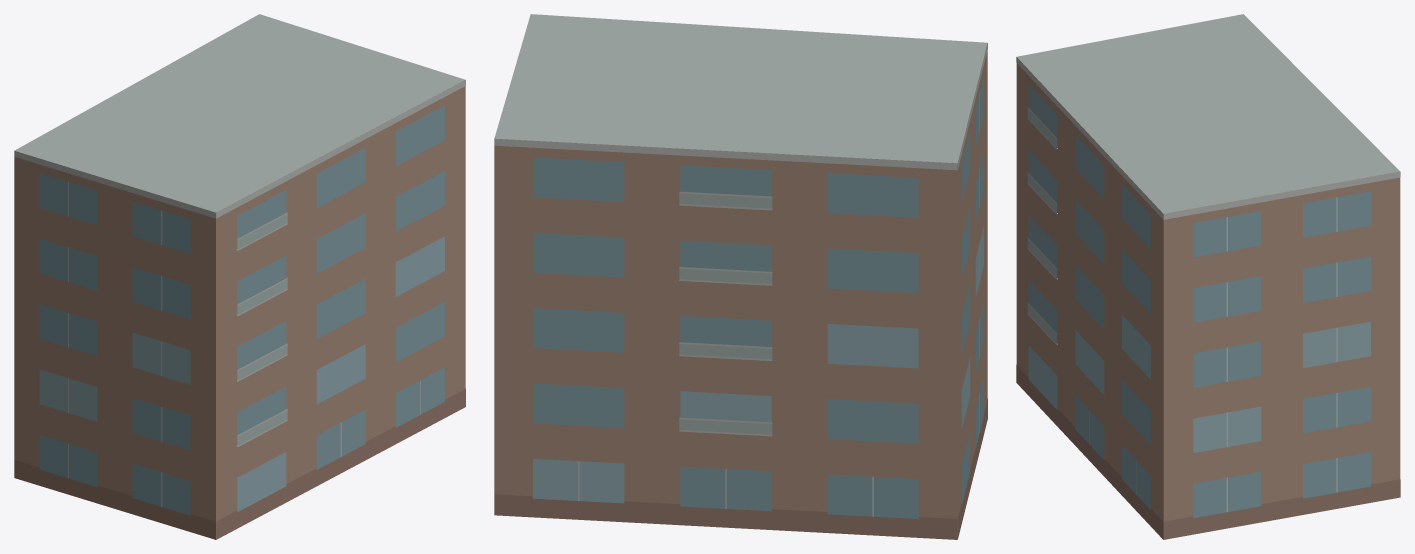
The model's file is survey-upis-32860428.glb.
3 views of the same model, side by side, from view 1: azimuth 30°, elevation 25°; view 2: azimuth 150°, elevation 25°; view 3: azimuth 270°, elevation 25° (orthographic). The views are drawn at different scales.
Parts seen in each view (by area): view 1: survey-upis-32860428.tmp; view 2: survey-upis-32860428.tmp; view 3: survey-upis-32860428.tmp.
Part boxes in pixels (x1,y1,x2,y2): survey-upis-32860428.tmp: (14, 14, 465, 539); survey-upis-32860428.tmp: (494, 14, 987, 539); survey-upis-32860428.tmp: (1016, 14, 1400, 539).
Size of the model in its own units: 17.44 by 13.25 by 14.15.
